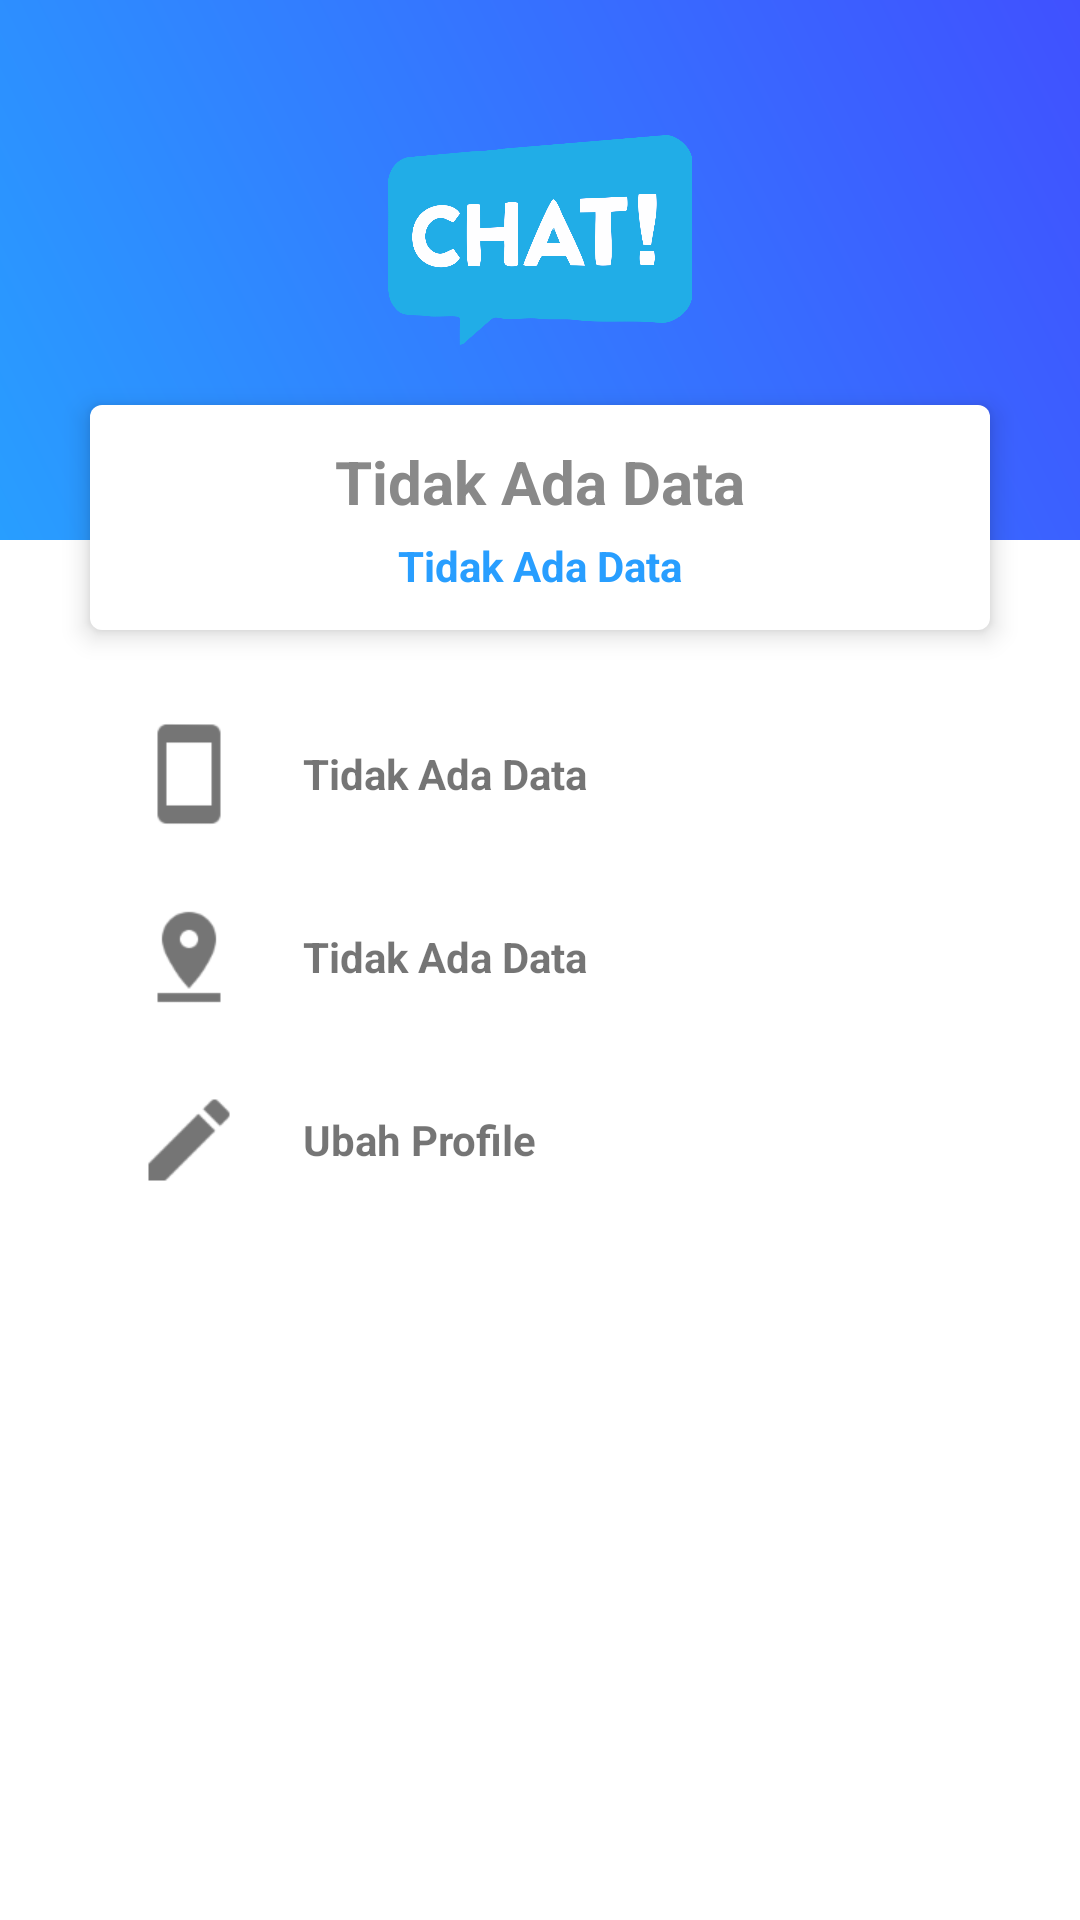

Icons on this 1080w x 1920h Android screen, each with its box as [x1, y1, x2, y2]:
edit: [148, 1099, 230, 1181]
pin drop: [157, 912, 221, 1002]
smartphone: [157, 724, 221, 824]
